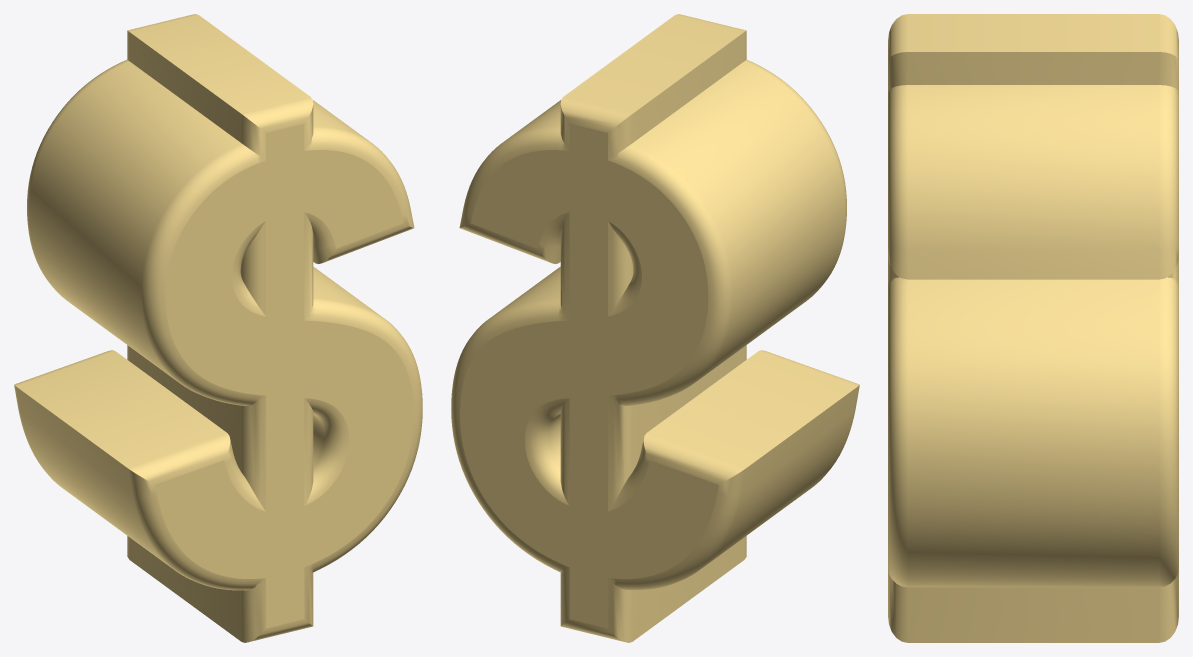
The model's file is dollar-sign.glb.
3 renders of one model, left to right at view 1: azimuth 30°, elevation 25°; view 2: azimuth 150°, elevation 25°; view 3: azimuth 270°, elevation 25°, orthographic. The views are drawn at different scales.
Parts seen in each view (by area): view 1: DollarSign; view 2: DollarSign; view 3: DollarSign.
Part boxes in pixels (x1,y1,x2,y2): DollarSign: (14, 14, 422, 642); DollarSign: (451, 14, 859, 642); DollarSign: (888, 14, 1178, 642).
Size of the model in its own units: 0.7536 by 1.3 by 0.58.
